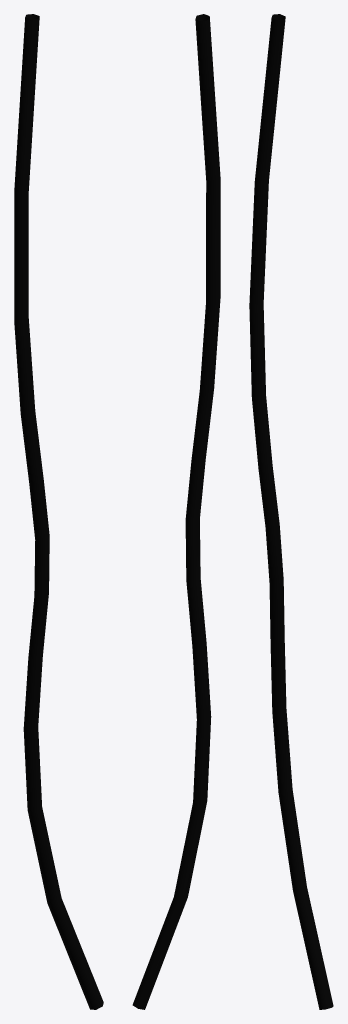
Rendered from SM_Stage_Final_Wire_ceiling_04.fbx.
3 renders of one model, left to right at view 1: azimuth 30°, elevation 25°; view 2: azimuth 210°, elevation 25°; view 3: azimuth 330°, elevation 25°, orthographic. The views are drawn at different scales.
Parts seen in each view (by area): view 1: SM_Stage_Final_Wire_ceiling_04; view 2: SM_Stage_Final_Wire_ceiling_04; view 3: SM_Stage_Final_Wire_ceiling_04.
Part boxes in pixels (box(x1,y1,x2,y2)): SM_Stage_Final_Wire_ceiling_04: box(14, 14, 103, 1009); SM_Stage_Final_Wire_ceiling_04: box(132, 14, 220, 1009); SM_Stage_Final_Wire_ceiling_04: box(249, 14, 333, 1009).
Bounding box in the file's own units: 15.96 × 176 × 5.84.
1 material, 1 textured.
